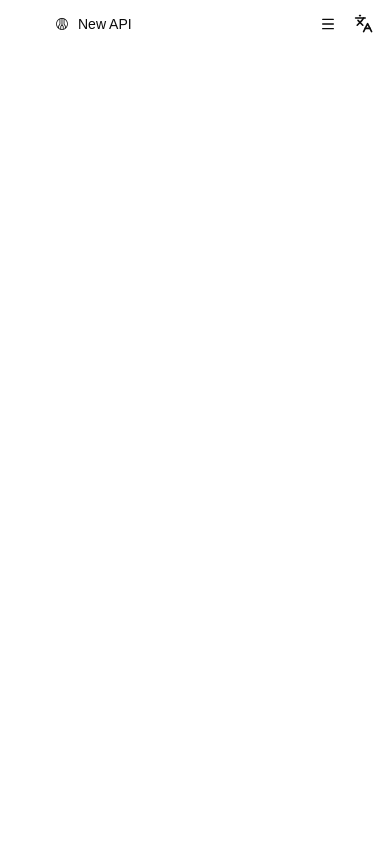
it: AppHeader mobile navigation entry › the entry is mobile-only and opens the navigation drawer
Step 1. Click the button named "Open menu" → coordinates (328, 24), box [314,10,342,38]
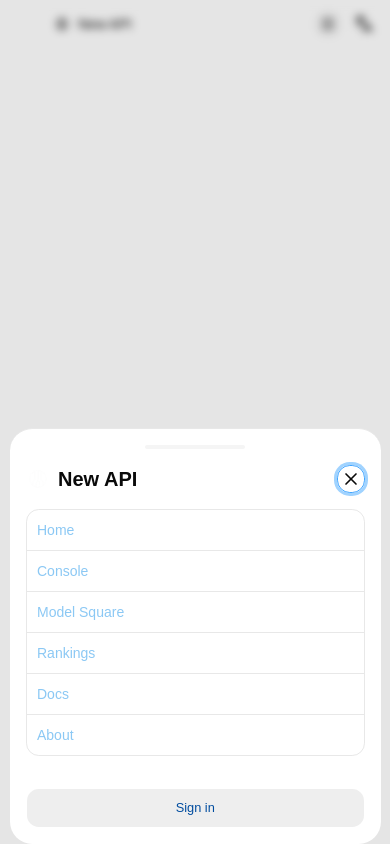
Now the link "Home" is shown, box [37,522,74,538]
Now the button named "Open menu" is expanded, box [314,10,342,38]
